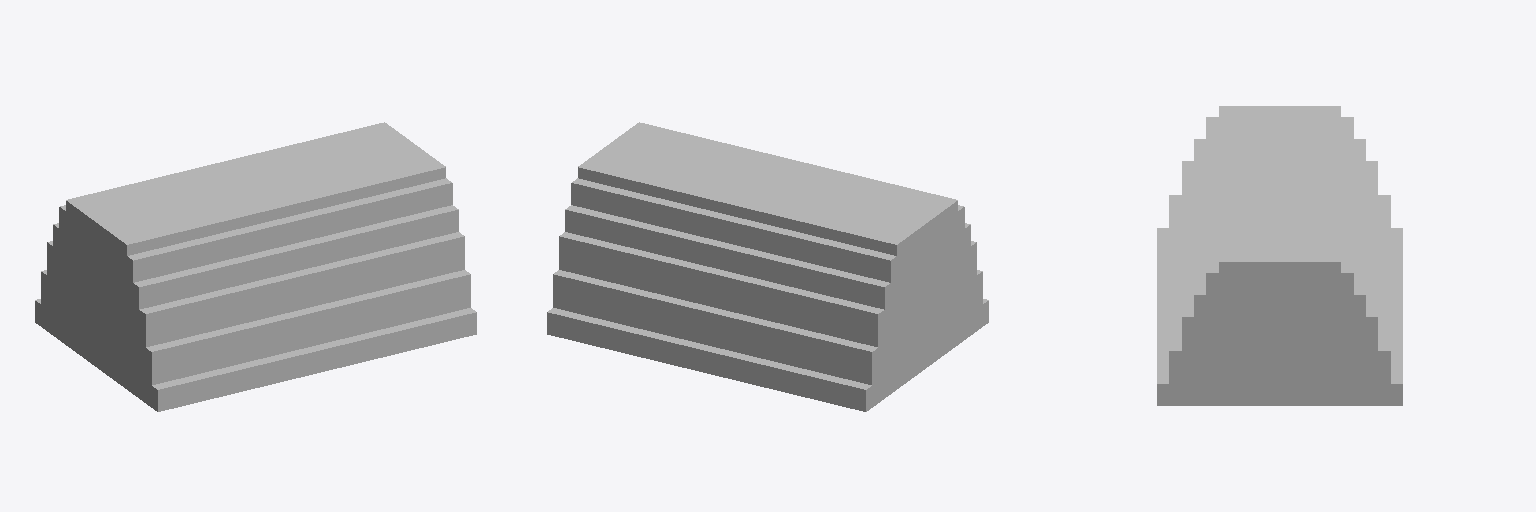
Rendered from blocking_block.obj.
3 renders of one model, left to right at view 1: azimuth 30°, elevation 25°; view 2: azimuth 150°, elevation 25°; view 3: azimuth 270°, elevation 25°, orthographic.
Parts seen in each view (by area): view 1: blocking_block; view 2: blocking_block; view 3: blocking_block.
Part boxes in pixels (bbox=[...]): blocking_block: bbox=[35, 122, 476, 411]; blocking_block: bbox=[547, 122, 988, 411]; blocking_block: bbox=[1157, 106, 1402, 405].
Size of the model in its own units: 30 by 13 by 20.